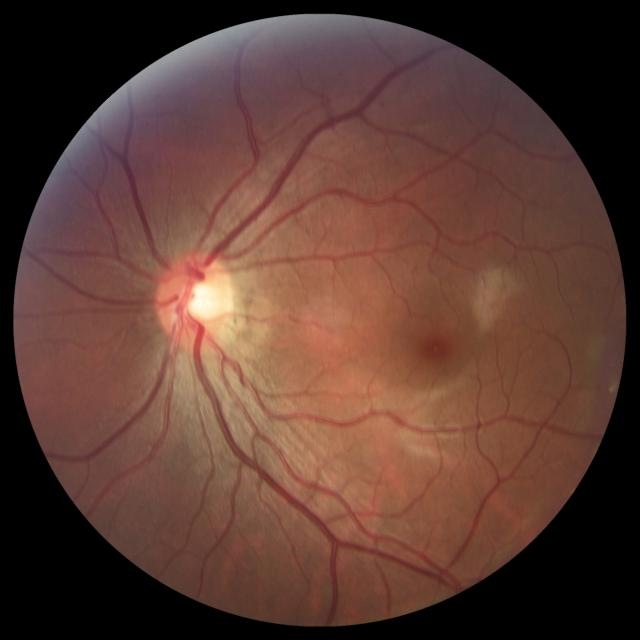OC: (178, 282, 221, 324)
OD: (156, 252, 236, 351)
